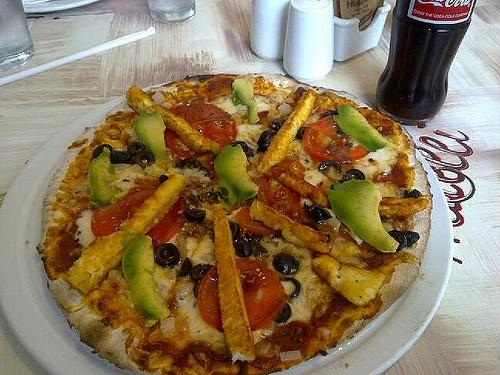avocado: (326, 178, 399, 252), (121, 235, 170, 320), (83, 147, 128, 209), (214, 144, 258, 207), (334, 105, 390, 152), (134, 110, 167, 160), (231, 74, 260, 124)
